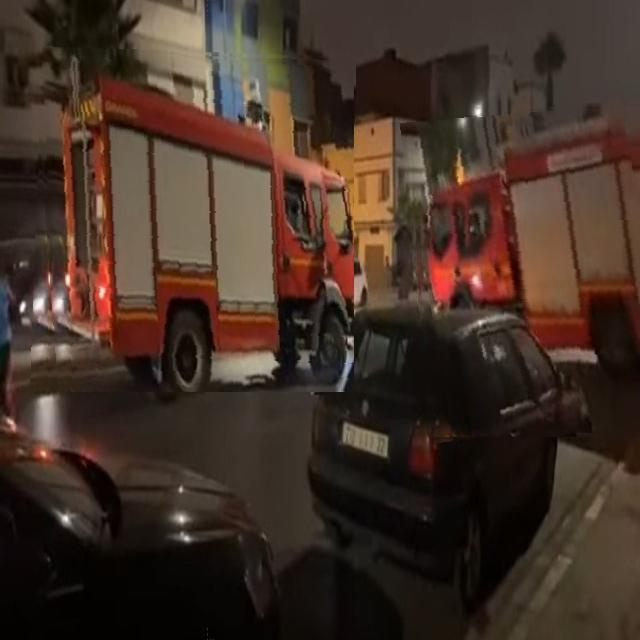Protection Civile: (33, 49, 354, 392), (408, 105, 640, 437)
